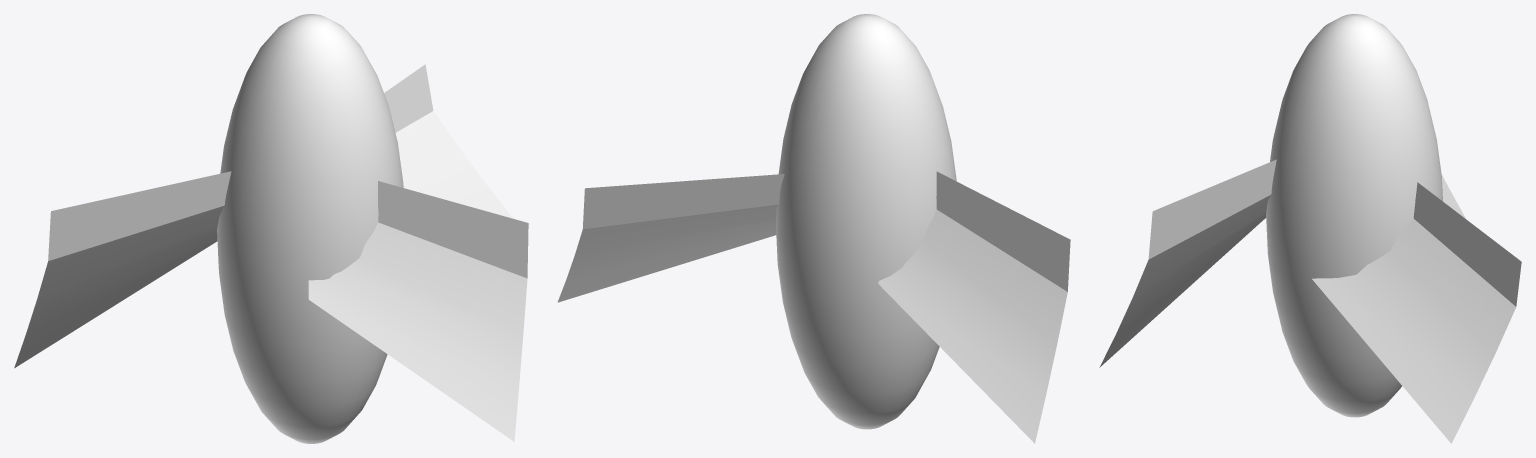
The model's file is Screw.obj.
3 views of the same model, side by side, from view 1: azimuth 30°, elevation 25°; view 2: azimuth 150°, elevation 25°; view 3: azimuth 270°, elevation 25° (orthographic). The views are drawn at different scales.
Parts seen in each view (by area): view 1: 球; view 2: 球; view 3: 球.
Part boxes in pixels (<box>): 球: <box>14,14,528,443</box>; 球: <box>557,14,1070,443</box>; 球: <box>1099,14,1521,443</box>.
Bounding box in the file's own units: 6.57 × 5.26 × 5.08.
Materials: 1 (1 with a texture image).
